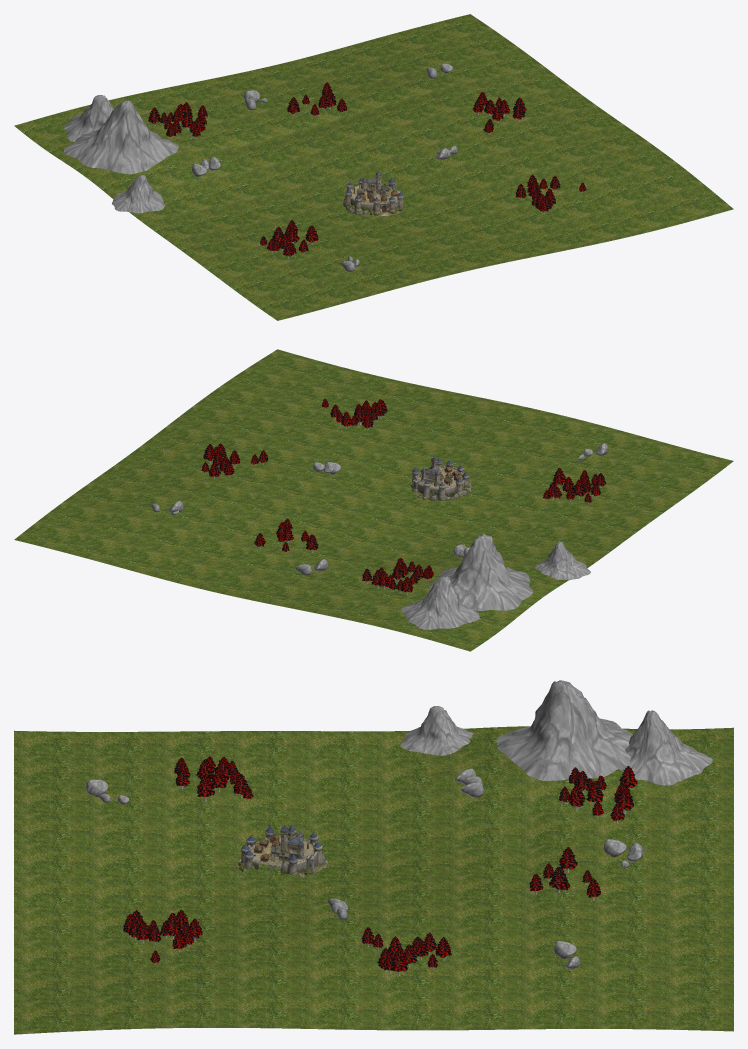
The model's file is artist-output.glb.
The picture shows the model from 3 angles, top to bottom: view 1: azimuth 30°, elevation 25°; view 2: azimuth 150°, elevation 25°; view 3: azimuth 270°, elevation 25°; orthographic projection. The views are drawn at different scales.
Visible parts, largest first — view 1: ZoneOne continuous prairie source, Mountain01_LOD0.001, Eldoria_MultiPiece_Group_05, Mountain01_LOD0.003, Mountain01_LOD0.002; view 2: ZoneOne continuous prairie source, Mountain01_LOD0.001, Mountain01_LOD0.002, Eldoria_MultiPiece_Group_05, Mountain01_LOD0.003; view 3: ZoneOne continuous prairie source, Mountain01_LOD0.001, Mountain01_LOD0.002, Eldoria_MultiPiece_Group_05, Mountain01_LOD0.003.
Boxes of the visible parts, x1,y1,x2,y2 form: ZoneOne continuous prairie source: [14, 14, 733, 320]; Mountain01_LOD0.001: [64, 100, 178, 174]; Eldoria_MultiPiece_Group_05: [343, 170, 404, 216]; Mountain01_LOD0.003: [112, 175, 165, 213]; Mountain01_LOD0.002: [63, 95, 114, 141]; ZoneOne continuous prairie source: [14, 349, 733, 651]; Mountain01_LOD0.001: [429, 534, 533, 610]; Mountain01_LOD0.002: [401, 576, 479, 629]; Eldoria_MultiPiece_Group_05: [410, 455, 472, 500]; Mountain01_LOD0.003: [534, 541, 590, 580]; ZoneOne continuous prairie source: [14, 726, 733, 1034]; Mountain01_LOD0.001: [496, 680, 633, 780]; Mountain01_LOD0.002: [619, 710, 712, 785]; Eldoria_MultiPiece_Group_05: [235, 824, 328, 877]; Mountain01_LOD0.003: [400, 706, 473, 755].
Size of what is drawn, in the model's own units: 245 by 32.68 by 240.
Materials: 6 (6 with a texture image).
